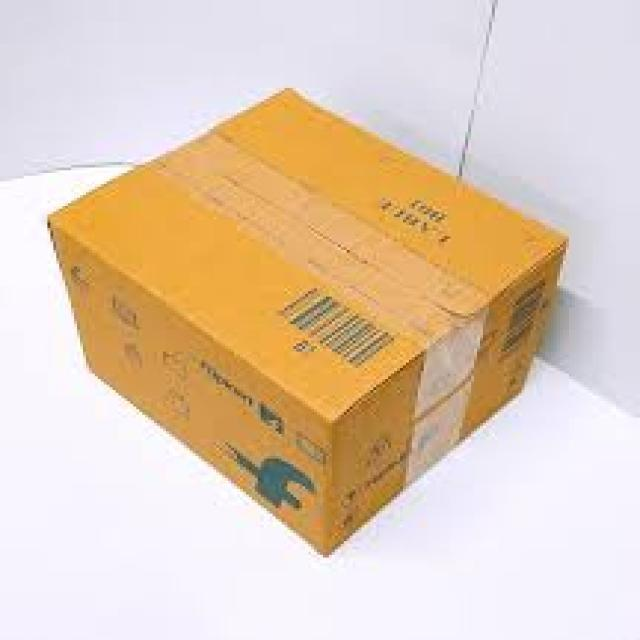cardboxes: (47, 88, 569, 560)
